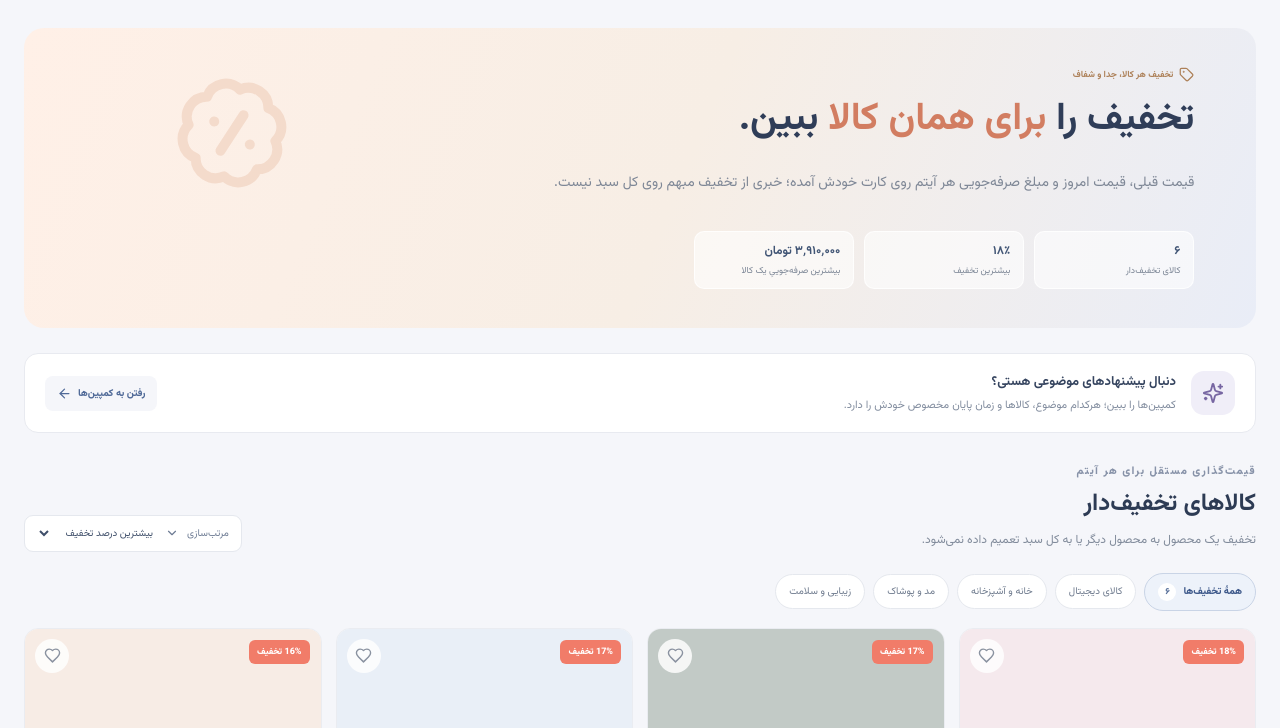
Scenario: campaign pages › offers a link from item discounts to the separate campaign hub
Expected: the heading "تخفیف را برای همان کالا ببین." is shown, left=739, top=94, right=1194, bottom=148
Expected: the text "صرفه‌جویی" is shown, left=554, top=172, right=1194, bottom=194
Click the link named "رفتن به کمپین‌ها". click: point(1213, 393)
box: left=24, top=353, right=1256, bottom=433
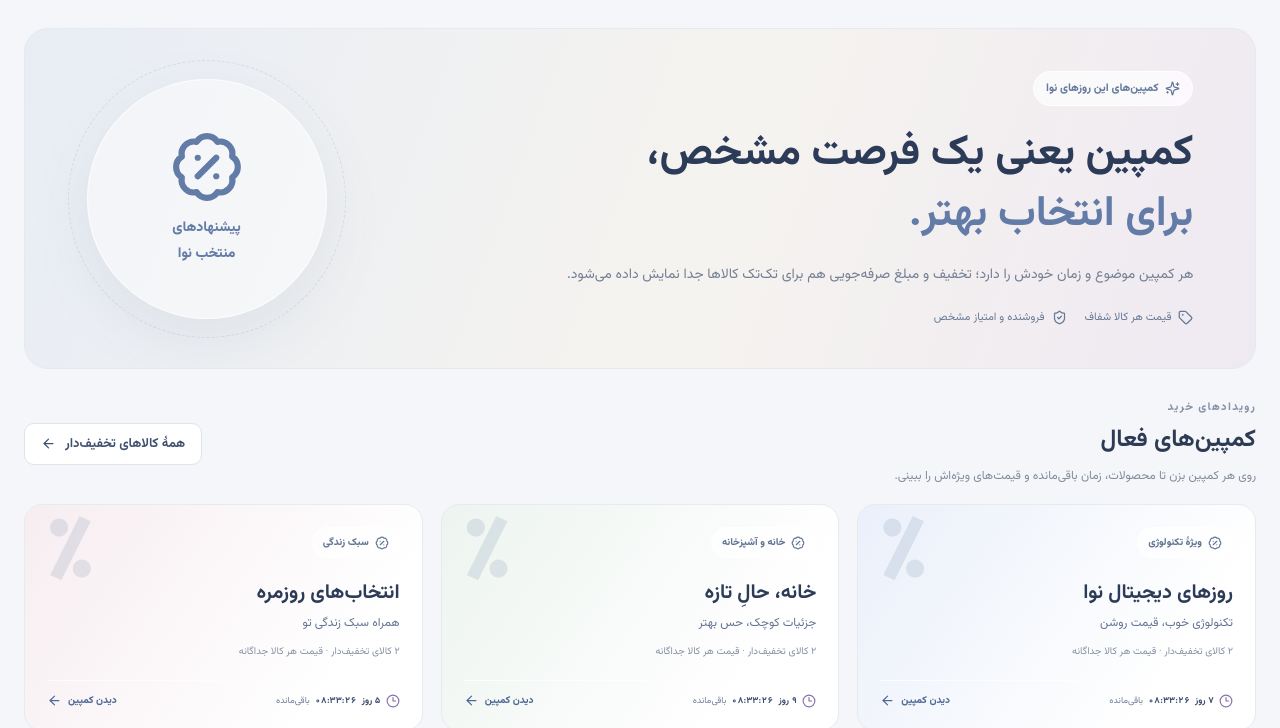
Expected: the heading "کمپین‌های فعال" is shown, left=1100, top=421, right=1256, bottom=459
